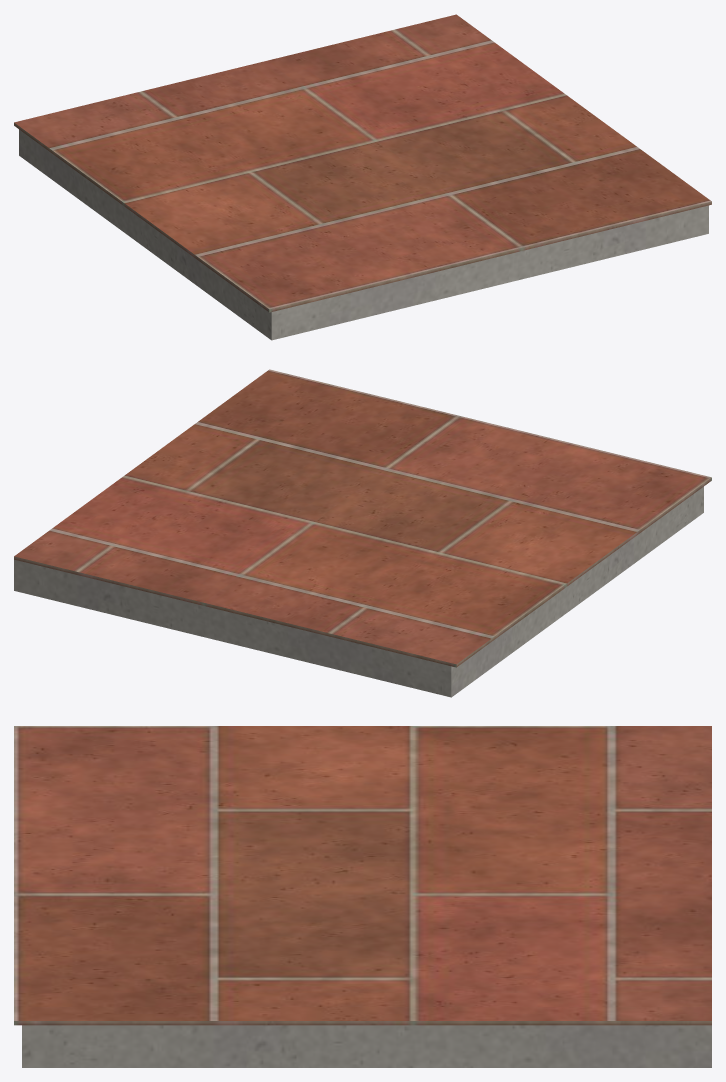
File: floor_kit_e0_25_25_0.glb
3 views of the same model, one above another, from view 1: azimuth 30°, elevation 25°; view 2: azimuth 150°, elevation 25°; view 3: azimuth 270°, elevation 25° (orthographic). The views are drawn at different scales.
Parts seen in each view (by area): view 1: floor_kit_e0_25_25_0_quarry, floor_kit_e0_25_25_0_concrete; view 2: floor_kit_e0_25_25_0_quarry, floor_kit_e0_25_25_0_concrete; view 3: floor_kit_e0_25_25_0_quarry, floor_kit_e0_25_25_0_concrete.
Boxes of the visible parts, left/top/right/bottom form: floor_kit_e0_25_25_0_quarry: left=14, top=14, right=711, bottom=312; floor_kit_e0_25_25_0_concrete: left=19, top=129, right=708, bottom=340; floor_kit_e0_25_25_0_quarry: left=14, top=369, right=711, bottom=667; floor_kit_e0_25_25_0_concrete: left=14, top=486, right=703, bottom=697; floor_kit_e0_25_25_0_quarry: left=14, top=726, right=711, bottom=1025; floor_kit_e0_25_25_0_concrete: left=22, top=1025, right=711, bottom=1067.
Bounding box in the file's own units: 1.75 × 0.13 × 1.75.
2 materials, 2 textured.
